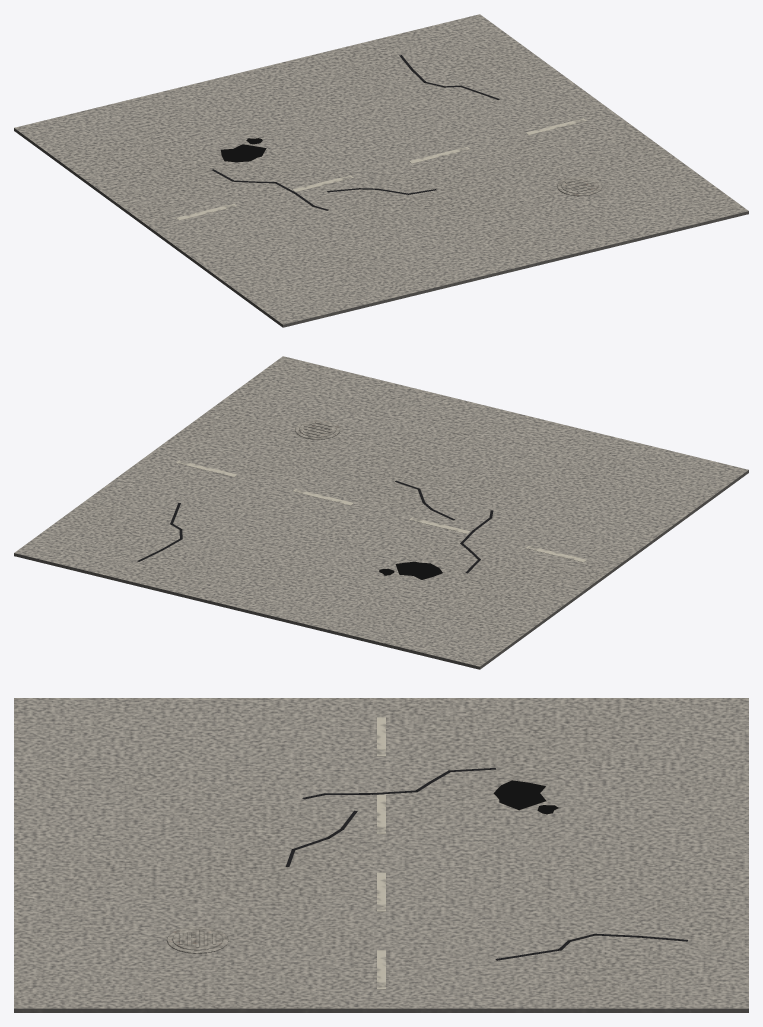
File: street_tile.fbx
3 views of the same model, one above another, from view 1: azimuth 30°, elevation 25°; view 2: azimuth 150°, elevation 25°; view 3: azimuth 270°, elevation 25° (orthographic). The views are drawn at different scales.
Visible parts, largest first — view 1: Body; view 2: Body; view 3: Body.
Boxes of the visible parts, <box> form: Body: <box>14,14,748,327</box>; Body: <box>14,356,748,669</box>; Body: <box>14,698,748,1012</box>.
Size of the model in its own units: 32 by 0.305 by 32.
Materials: 1 (1 with a texture image).
